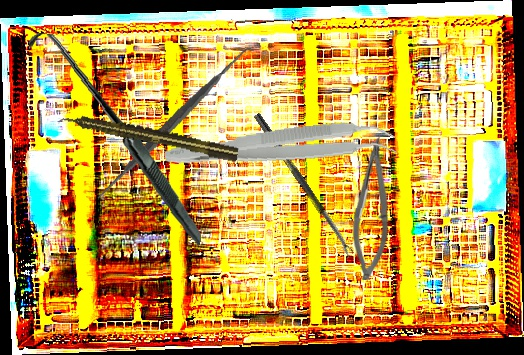Handpiece: (57, 108, 240, 164)
Hook Surgical: (15, 32, 215, 245)
Micro Scissor: (351, 136, 391, 281)
Spatula Surgical: (86, 35, 260, 211)
Surgical Spoon: (252, 112, 355, 258)
Tissue Forceps: (163, 117, 398, 180)
